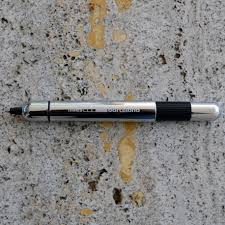qillqana: (6, 95, 220, 127)
